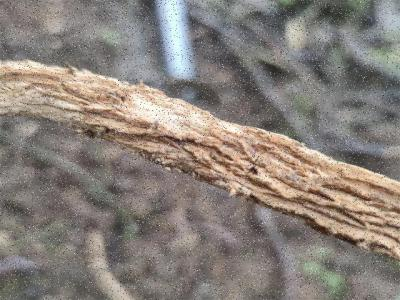Root: (0, 60, 399, 259)
